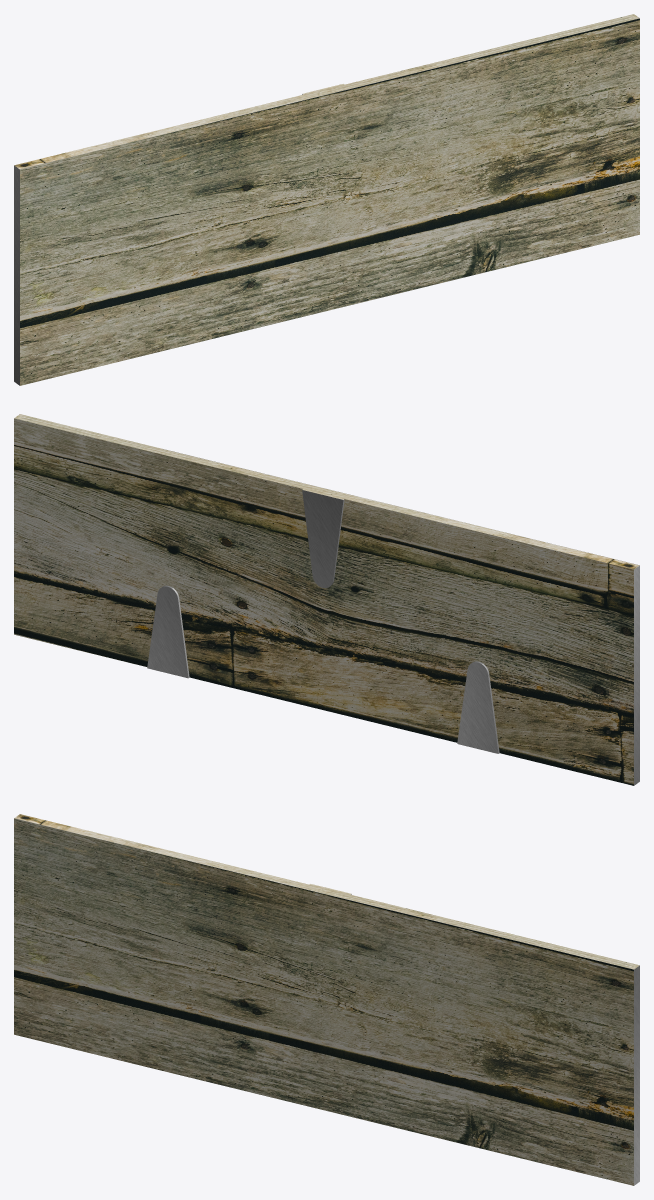
File: lid.obj
The picture shows the model from 3 angles, top to bottom: view 1: azimuth 30°, elevation 25°; view 2: azimuth 150°, elevation 25°; view 3: azimuth 330°, elevation 25°; orthographic projection.
Visible parts, largest first — view 1: Lid_Lid.002; view 2: Lid_Lid.002; view 3: Lid_Lid.002.
Part boxes in pixels (x1=…): Lid_Lid.002: x1=14, y1=14, x2=639, y2=385; Lid_Lid.002: x1=14, y1=414, x2=639, y2=785; Lid_Lid.002: x1=14, y1=814, x2=639, y2=1185.
Bounding box in the file's own units: 15 × 5 × 0.3.
